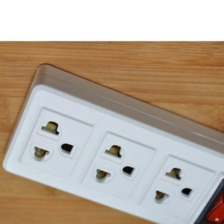three_eye_plug: (0, 60, 224, 224)
